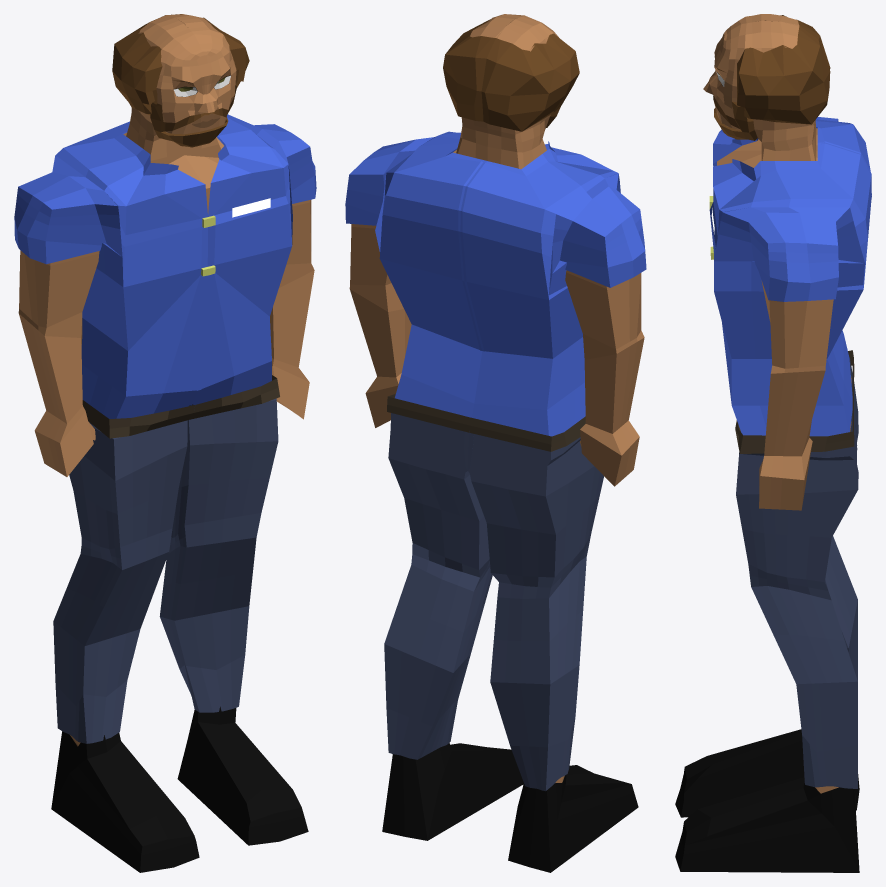
The model's file is janitor.glb.
3 views of the same model, side by side, from view 1: azimuth 30°, elevation 25°; view 2: azimuth 150°, elevation 25°; view 3: azimuth 270°, elevation 25° (orthographic).
Visible parts, largest first — view 1: Cube.001, Cube.002, Cube, Cube.003, Cube.006, Cube.004, Cube.008; view 2: Cube.001, Cube.002, Cube, Cube.003, Cube.006, Cube.004; view 3: Cube.001, Cube.002, Cube.003, Cube, Cube.006, Cube.004, Cube.008.
Part boxes in pixels (x1,y1,x2,y2): Cube.001: (14, 114, 316, 418); Cube.002: (53, 398, 278, 743); Cube: (18, 14, 314, 746); Cube.003: (51, 706, 308, 872); Cube.006: (112, 14, 249, 115); Cube.004: (82, 375, 279, 438); Cube.008: (150, 85, 236, 147); Cube.001: (345, 131, 646, 436); Cube.002: (384, 413, 603, 791); Cube: (349, 14, 644, 782); Cube.003: (382, 742, 638, 872); Cube.006: (443, 19, 579, 131); Cube.004: (387, 394, 585, 451); Cube.001: (709, 117, 871, 436); Cube.002: (736, 356, 858, 788); Cube.003: (675, 729, 859, 872); Cube: (703, 14, 851, 793); Cube.006: (737, 15, 830, 124); Cube.004: (735, 350, 854, 453); Cube.008: (714, 101, 757, 140).
Bounding box in the file's own units: 1.97 × 5.24 × 1.15.
